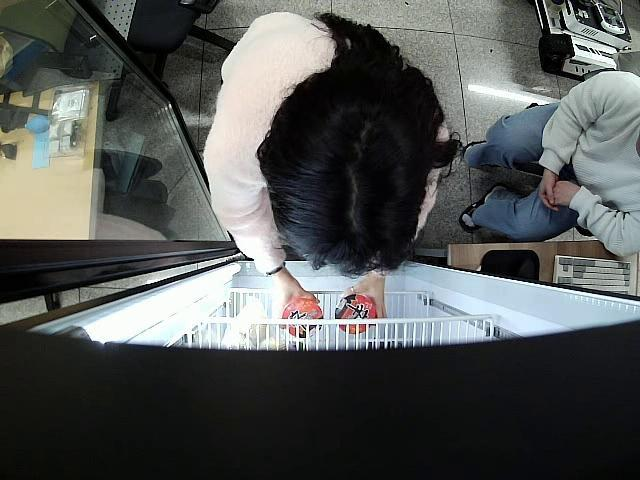02_shinRamen_S: (281, 298, 324, 339), (336, 292, 377, 332)
